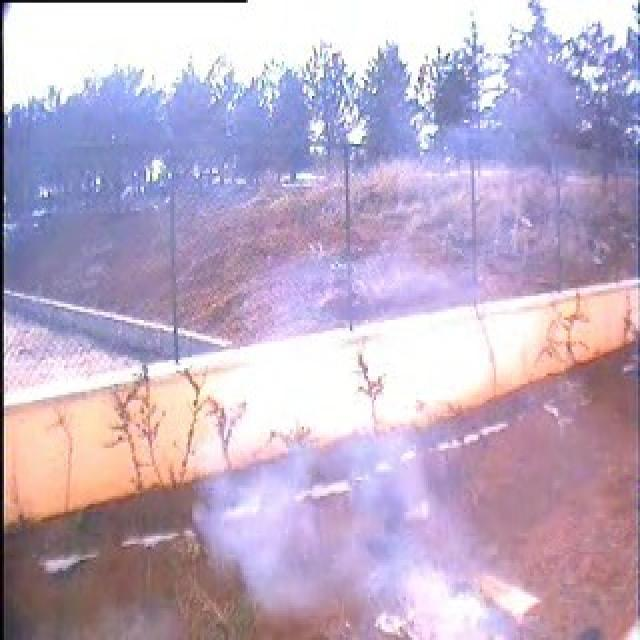Smoke: (193, 439, 508, 640)
